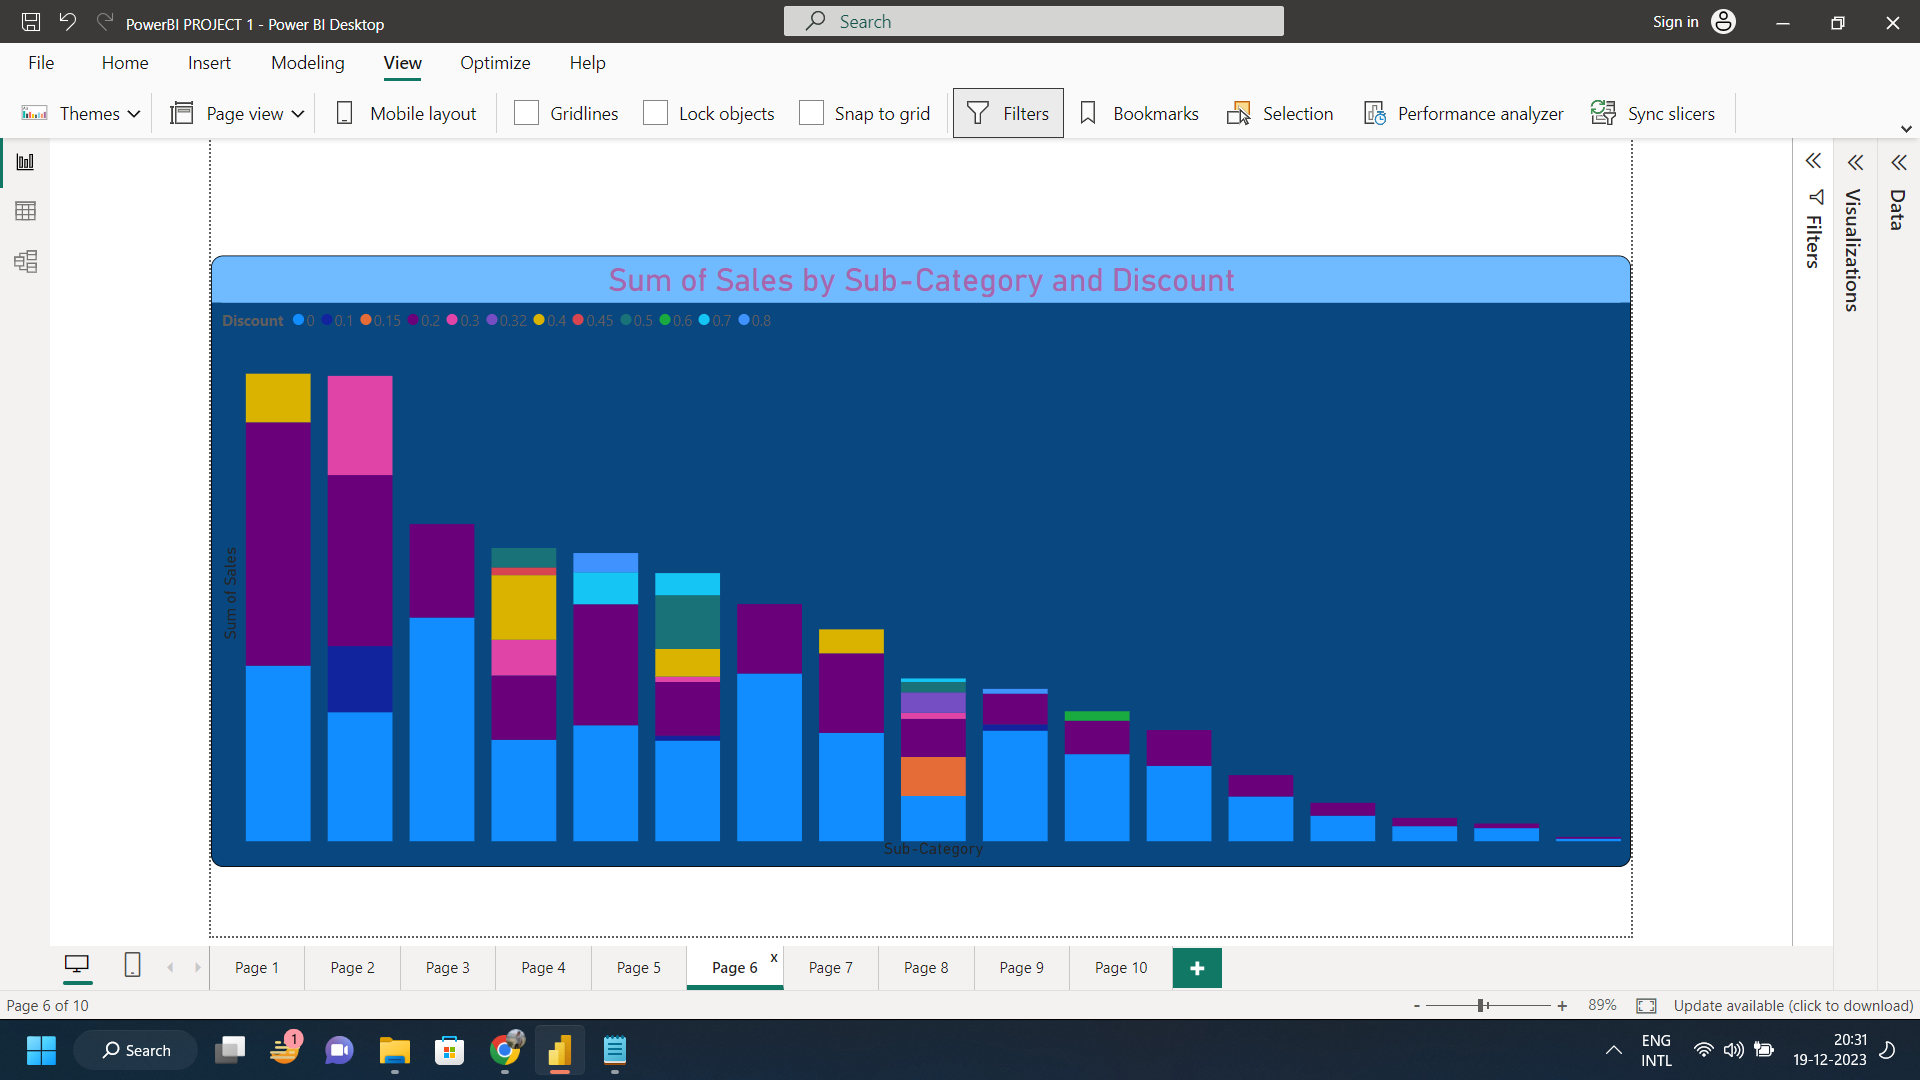

The page's visual inventory and layout, read from the dashboard file:
{"tool":"powerbi","page":{"name":"Page 6","canvas":[1280,720],"ordinal":5},"visuals":[{"type":"columnChart","fields":{"Y":["Sum(Orders.Sales)"],"Category":["Orders.Sub-Category"],"Series":["Orders.Discount"]},"box":[0,105.5,1280,550.9],"z":0}]}

Visuals, with their boxes on the page's 1280x720 design canvas (x1, y1, x2, y2). These are canvas units, not pixel positions in the 1920x1080 screenshot, which may show the page scaled, cropped or inside an application window:
columnChart - Sum(Orders.Sales) x Orders.Sub-Category: 0, 106, 1280, 656
